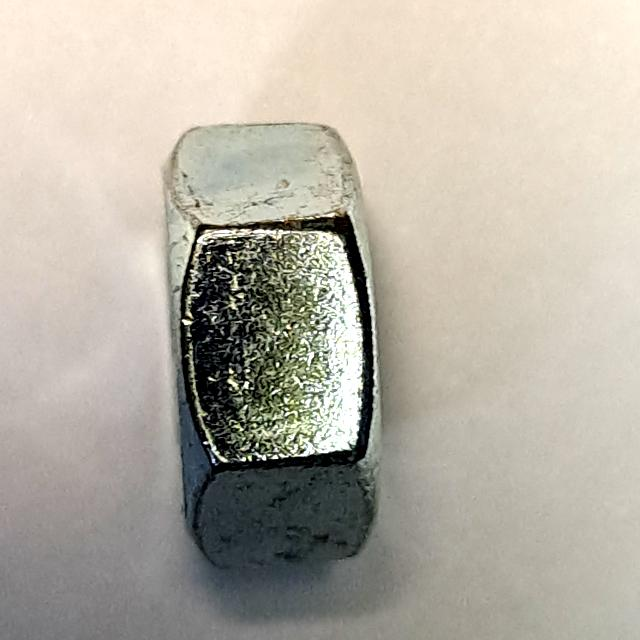Side_Excellent: (134, 107, 404, 591)
